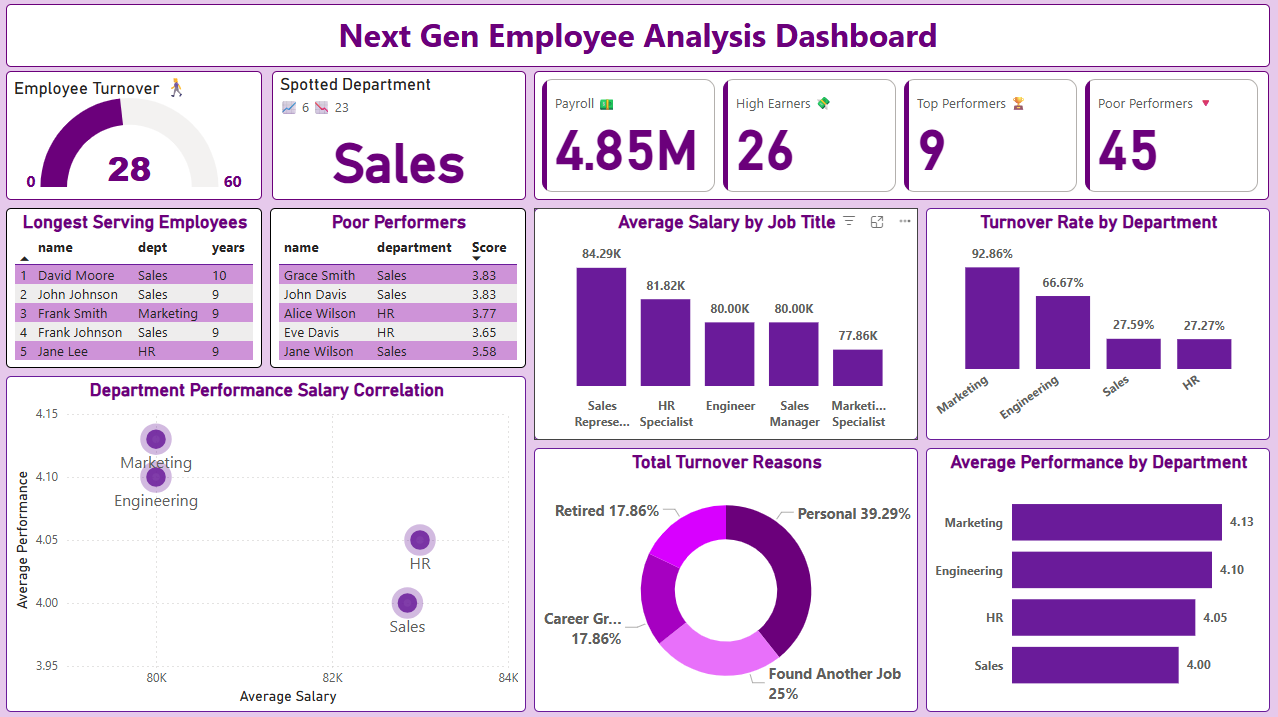

Layout of this report page (visuals, bound fields, positions):
{"tool":"powerbi","page":{"name":"Page 1","canvas":[1280,720],"ordinal":0},"visuals":[{"type":"tableEx","title":"Longest Serving Employees","fields":{"Values":["top 5 highest serving employees.RankOrder","top 5 highest serving employees.employee_name","top 5 highest serving employees.department_name","top 5 highest serving employees.years"]},"box":[8,208,256,160],"z":0},{"type":"columnChart","title":"Turnover Rate by Department","fields":{"Category":["department turnover rate.department_name"],"Y":["department turnover rate.turnover_rate"]},"box":[928,208,344,232],"z":1000},{"type":"donutChart","title":"Total Turnover Reasons","fields":{"Y":["main reasons for leaving.total_leavers"],"Category":["main reasons for leaving.reason_for_leaving"]},"box":[536,448,384,264],"z":2000},{"type":"gauge","fields":{"Y":["total employees left.total_employees_left"]},"box":[7.6,71,256.2,129],"z":3000},{"type":"barChart","title":"Average Performance by Department","fields":{"Category":["average perfromance by department.department_name"],"Y":["average perfromance by department.average_performance"]},"box":[928,448,344,264],"z":4000},{"type":"card","title":"Spotted Department","fields":{"Values":["employee perfromance scores by dept.department_name"]},"box":[274.3,71,253.3,129],"z":5000},{"type":"columnChart","title":"Average Salary by Job Title","fields":{"Category":["avareg salary by job title.job_title"],"Y":["avareg salary by job title.average_salary"]},"box":[536,208,384,232],"z":6000},{"type":"scatterChart","title":"Department Performance Salary Correlation","fields":{"X":["perfromance to salary correlation.average_salary"],"Category":["perfromance to salary correlation.department_name"],"Y":["perfromance to salary correlation.average_performance"]},"box":[8,376,520,336],"z":7000},{"type":"textbox","box":[8,3.5,1264,63.5],"z":8000},{"type":"cardVisual","fields":{"Data":["total salary expense.company_salary_expense","employees earning more than 80k.employees_earning_above_80k","employee perfromance scores.score_5","employee perfromance scores.below_3_5"]},"box":[535.6,71.1,735.6,128.9],"z":9000},{"type":"tableEx","title":"Poor Performers","fields":{"Values":["employees at risk by perfromance.employee_name","employees at risk by perfromance.department_name","employees at risk by perfromance.score"]},"box":[272,208,256,160],"z":10000}]}

Visuals, with their boxes in screenshot pixels (x1, y1, x2, y2), scaled from the page's 1280x720 canvas onto the 1278x717 screenshot:
"Longest Serving Employees" tableEx: <region>8, 207, 264, 366</region>
"Turnover Rate by Department" columnChart: <region>927, 207, 1270, 438</region>
"Total Turnover Reasons" donutChart: <region>535, 446, 919, 709</region>
gauge - total employees left.total_employees_left: <region>8, 71, 263, 199</region>
"Average Performance by Department" barChart: <region>927, 446, 1270, 709</region>
"Spotted Department" card: <region>274, 71, 527, 199</region>
"Average Salary by Job Title" columnChart: <region>535, 207, 919, 438</region>
"Department Performance Salary Correlation" scatterChart: <region>8, 374, 527, 709</region>
textbox: <region>8, 3, 1270, 67</region>
cardVisual - total salary expense.company_salary_expense x employees earning more than 80k.employees_earning_above_80k: <region>535, 71, 1269, 199</region>
"Poor Performers" tableEx: <region>272, 207, 527, 366</region>
